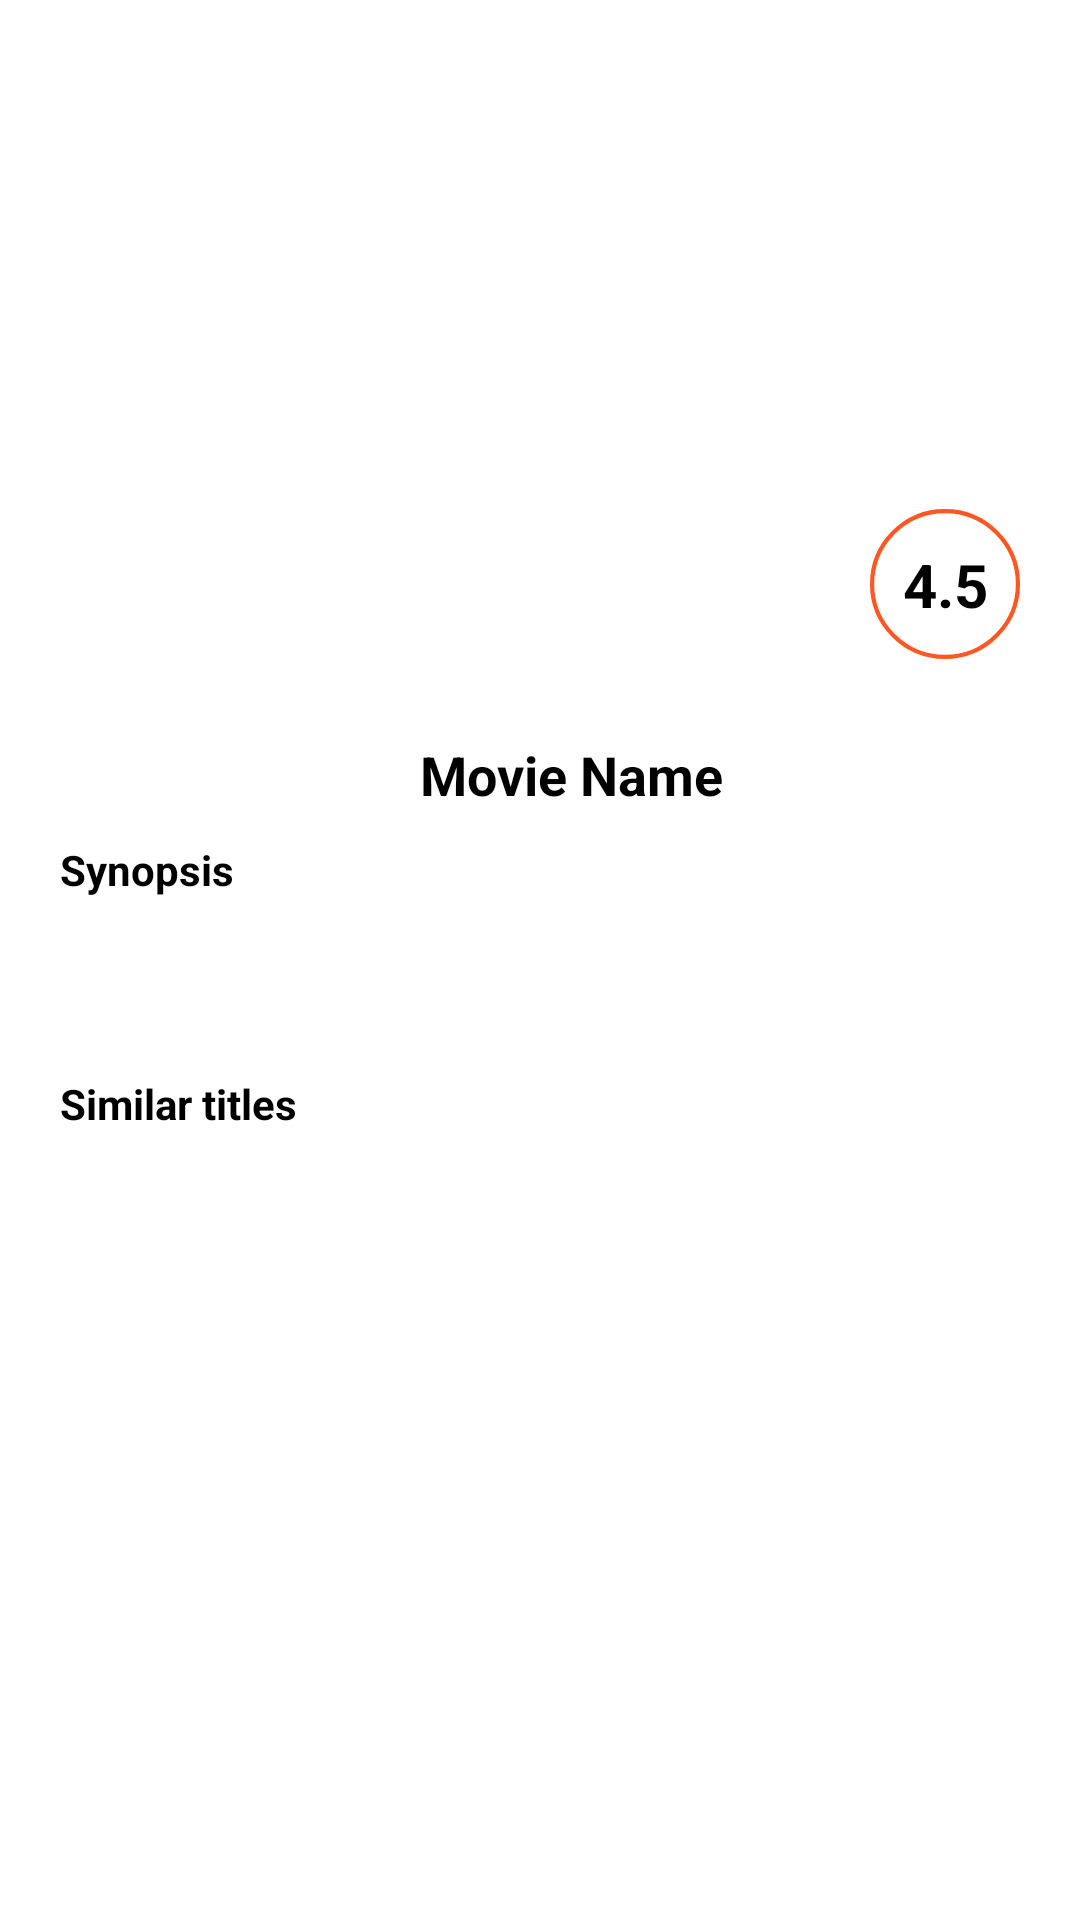

Screen size 1080×1920. Icon name, then its box in pixels as (x1, y1, x2, y2):
circle shape: (870, 509, 1020, 659)
